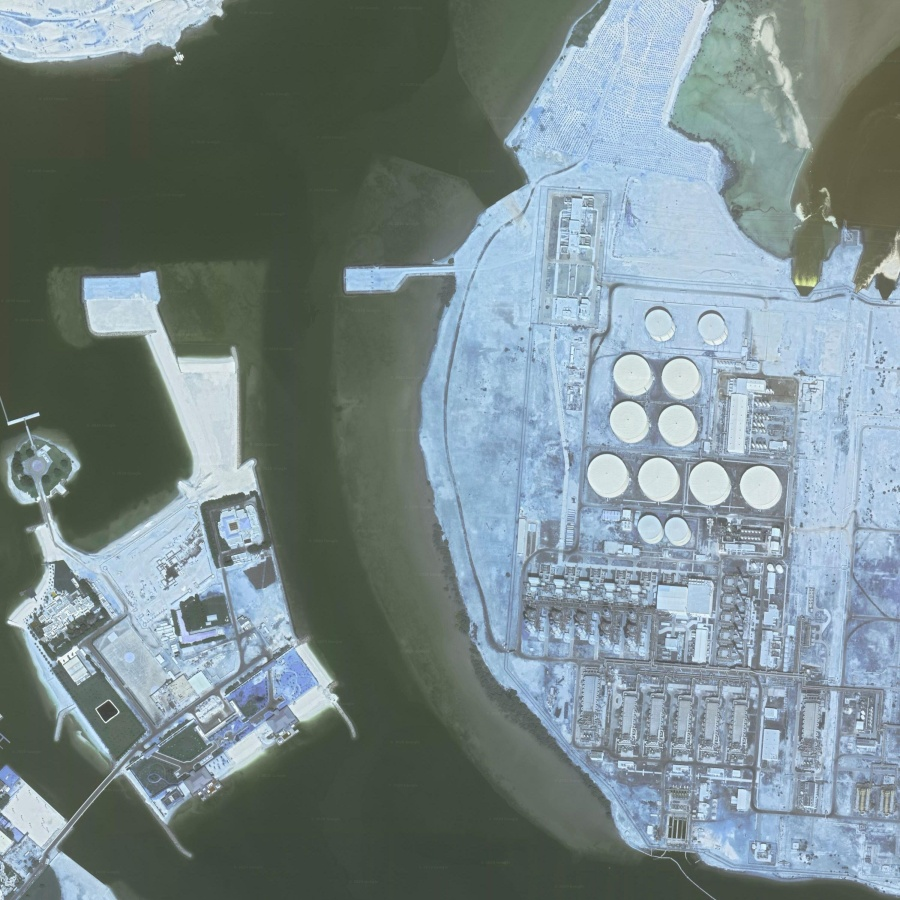PowerPlant: (515, 294, 815, 683)
